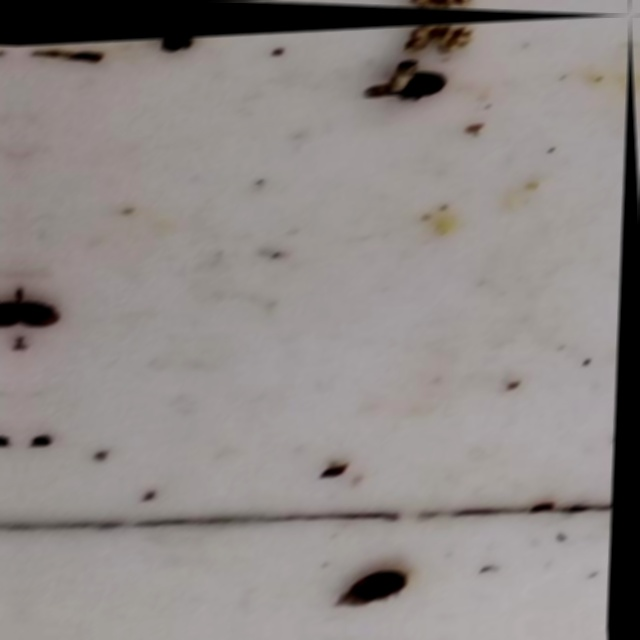varroa: (347, 566, 410, 604), (395, 68, 447, 101), (19, 294, 67, 324), (19, 275, 27, 303)
